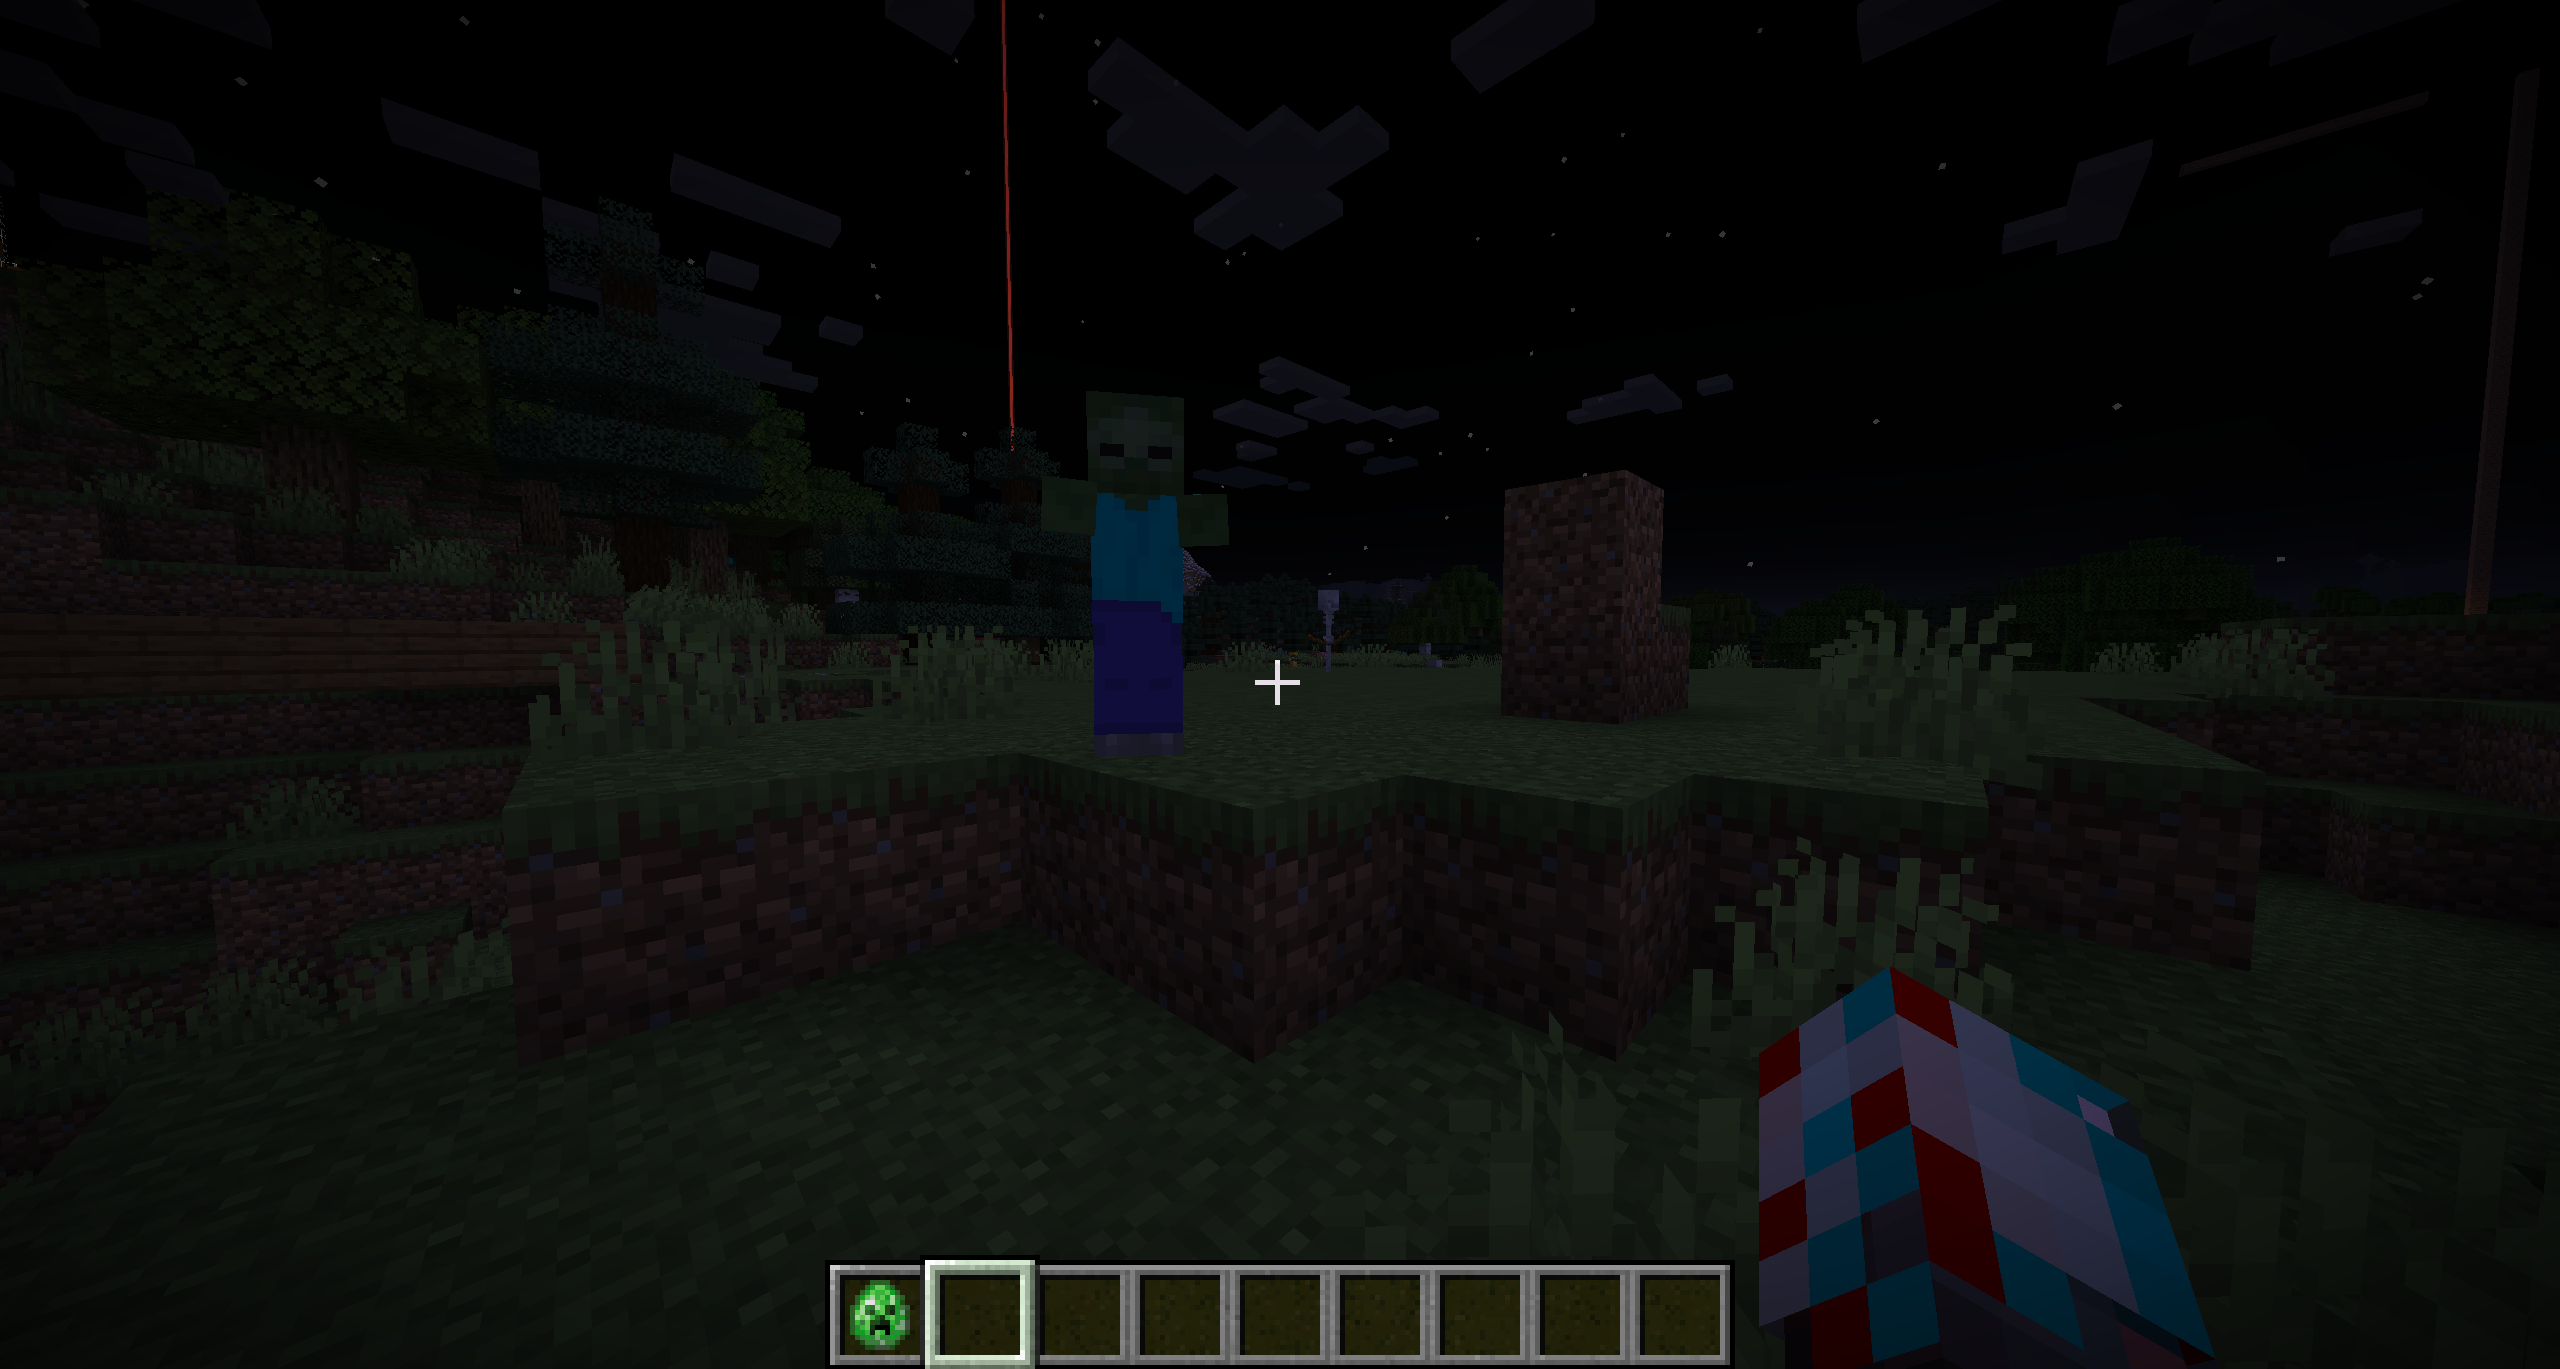squelettes: (1312, 589, 1348, 668)
zombies: (1063, 389, 1214, 753)
